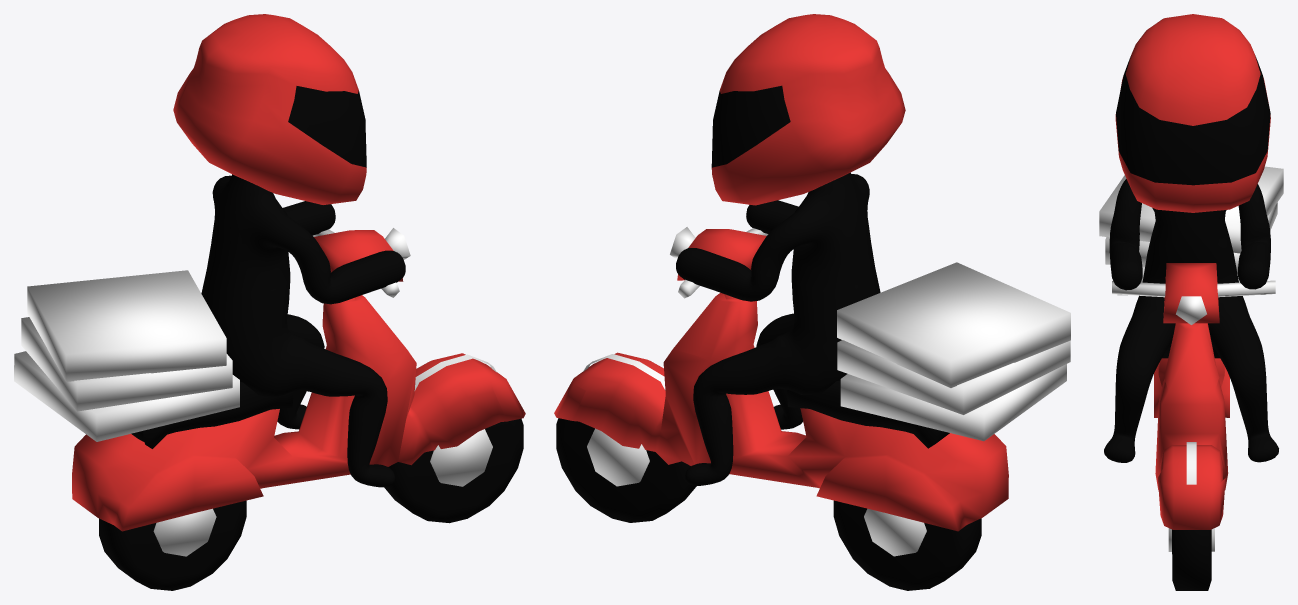
The model's file is Driver Asset.fbx.
3 renders of one model, left to right at view 1: azimuth 30°, elevation 25°; view 2: azimuth 150°, elevation 25°; view 3: azimuth 270°, elevation 25°, orthographic. The views are drawn at different scales.
Parts seen in each view (by area): view 1: Driver; view 2: Driver; view 3: Driver.
Boxes of the visible parts, left/top/right/bottom form: Driver: left=14, top=14, right=525, bottom=590; Driver: left=554, top=14, right=1070, bottom=590; Driver: left=1099, top=14, right=1283, bottom=590.
Bounding box in the file's own units: 188 × 201 × 70.08.
